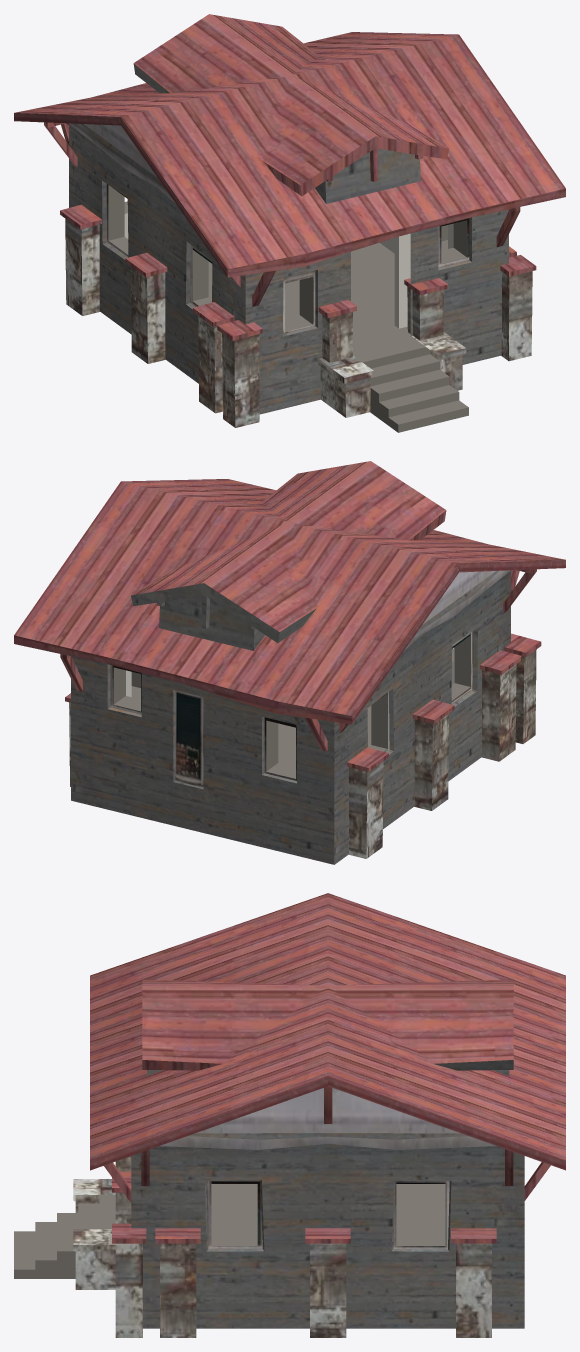
The model's file is rural-house.windows-v1.lod0.glb.
The picture shows the model from 3 angles, top to bottom: view 1: azimuth 30°, elevation 25°; view 2: azimuth 150°, elevation 25°; view 3: azimuth 270°, elevation 25°; orthographic projection. The views are drawn at different scales.
Parts seen in each view (by area): view 1: Rural_HouseOld_1_Material #39_0, Walkable floors and stairs (×2); view 2: Rural_HouseOld_1_Material #39_0, Walkable floors and stairs; view 3: Rural_HouseOld_1_Material #39_0, Walkable floors and stairs.
Boxes of the visible parts, bbox=[...] form: Rural_HouseOld_1_Material #39_0: bbox=[14, 14, 565, 427]; Walkable floors and stairs (×2): bbox=[108, 185, 468, 432]; Rural_HouseOld_1_Material #39_0: bbox=[14, 461, 565, 864]; Walkable floors and stairs: bbox=[113, 635, 470, 778]; Rural_HouseOld_1_Material #39_0: bbox=[73, 893, 565, 1337]; Walkable floors and stairs: bbox=[14, 1184, 445, 1278].
Size of the model in its own units: 6.9 by 4.79 by 8.76.
Materials: 3 (1 with a texture image).
